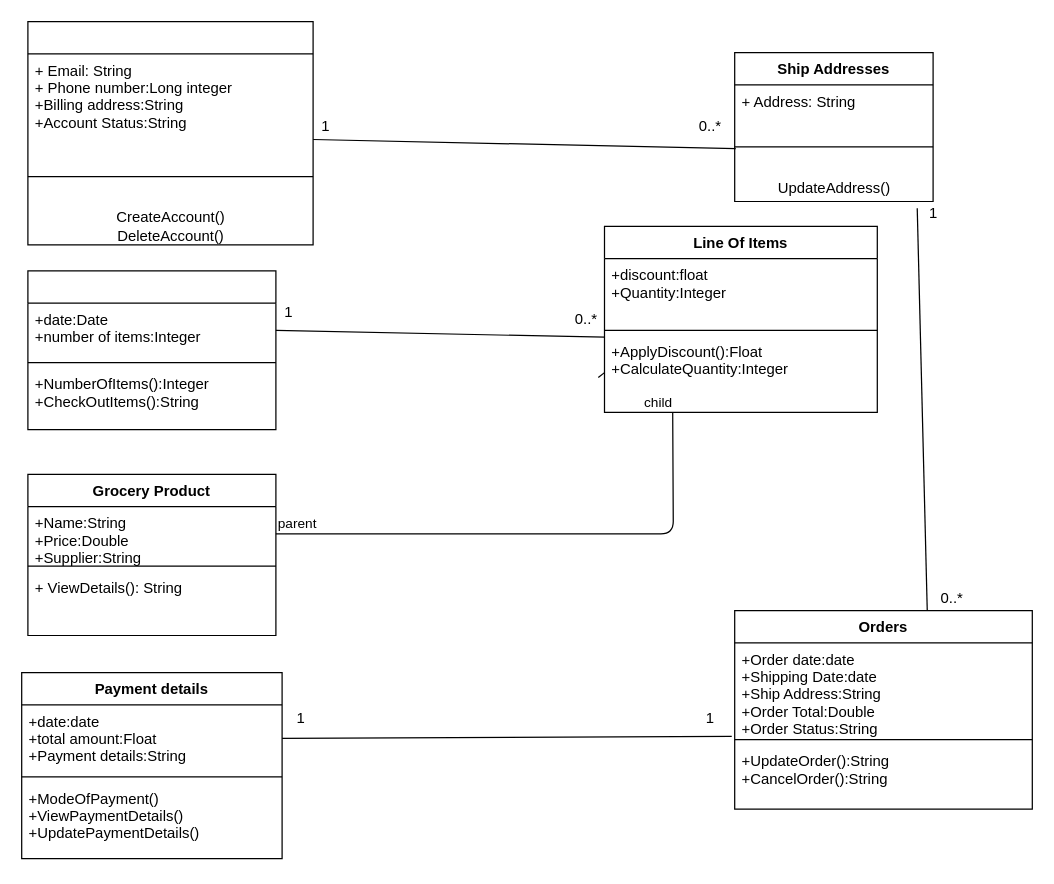
This 1054x884 diagram has some shape labels left out. The shapes that lost their labels are listed below. From the top down, each one's box as (x1, y1, x2, y2) in pixels, then its label:
(27, 20, 313, 245): Customer
(27, 270, 276, 430): Shopping Cart
